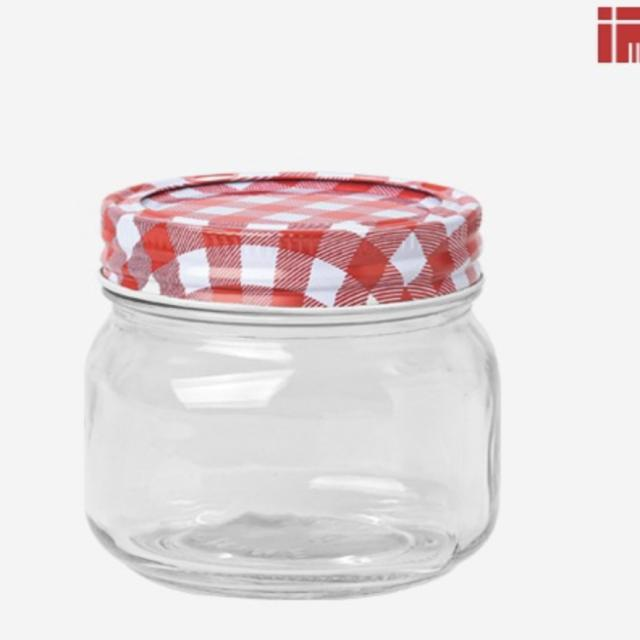recyclable: (62, 284, 527, 606)
